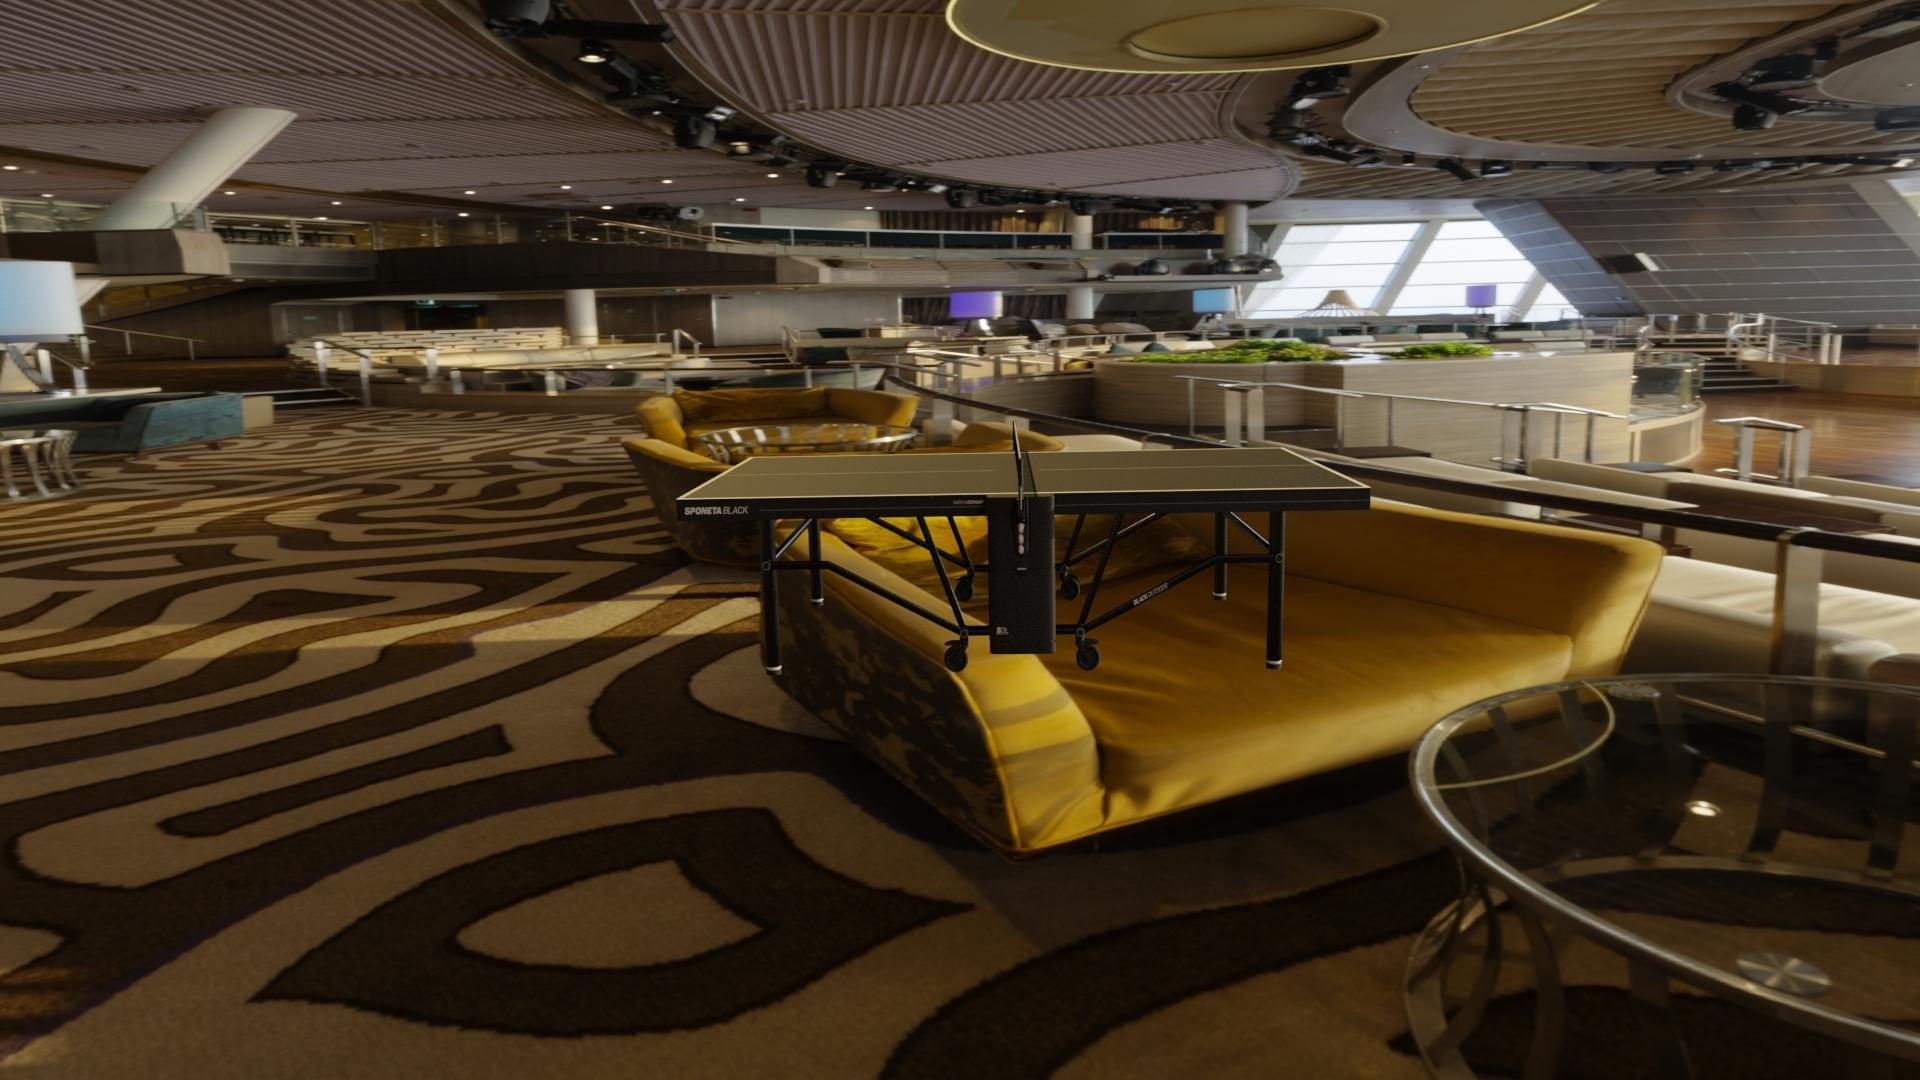table: (682, 448, 1365, 498)
